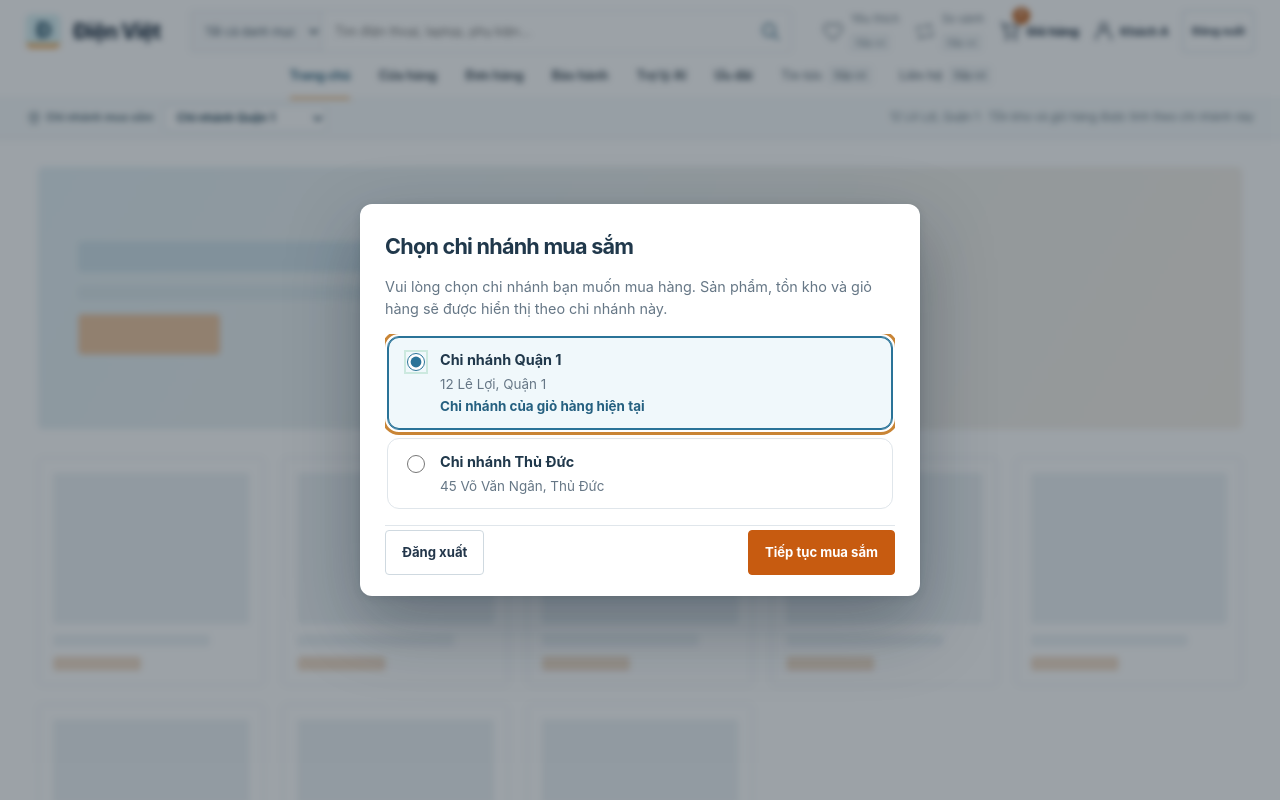
Test: C. Cart synchronization › switching away from a cart with items asks inside the dialog; keeping the cart changes nothing
Step 1. Click the radio button labelled "Chi nhánh Thủ Đức 45 Võ Văn Ngân, Thủ Đức" → (416, 464), box [407,455,425,473]
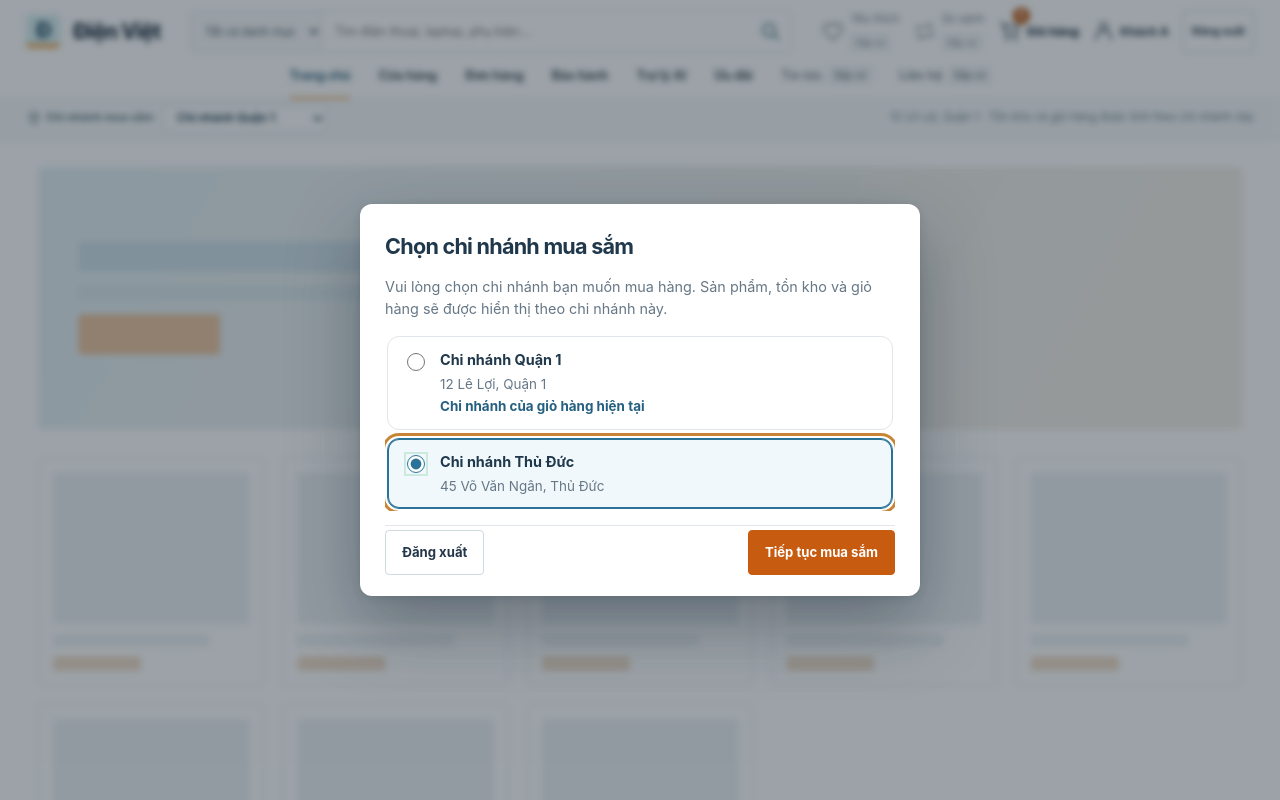
Step 2. Click the button "Tiếp tục mua sắm" → (822, 552), box [748,530,895,575]
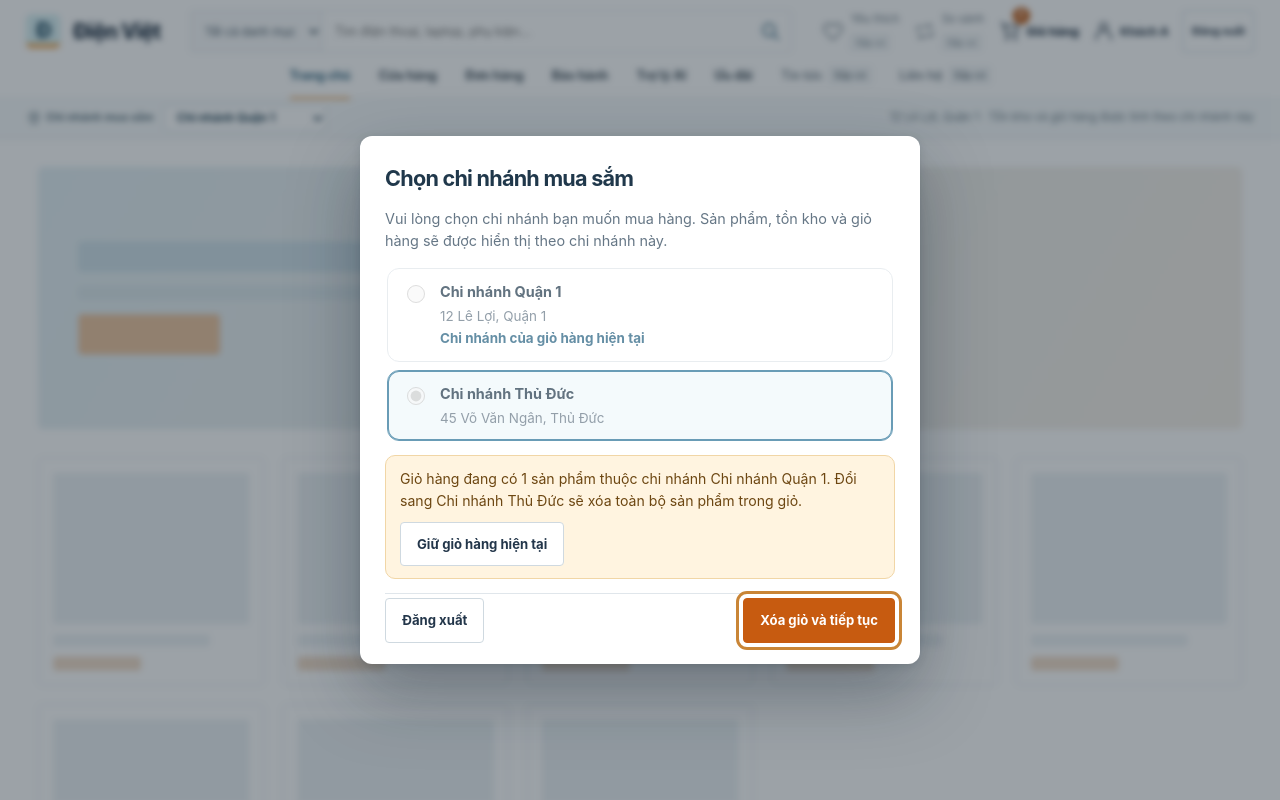
Expected: the message shows "Giỏ hàng đang có 1 sản phẩm thuộc chi nhánh Chi nhánh Quận 1", [385,455,895,579]
Step 3. Click the button "Giữ giỏ hàng hiện tại" → (482, 544), box [400,522,564,566]
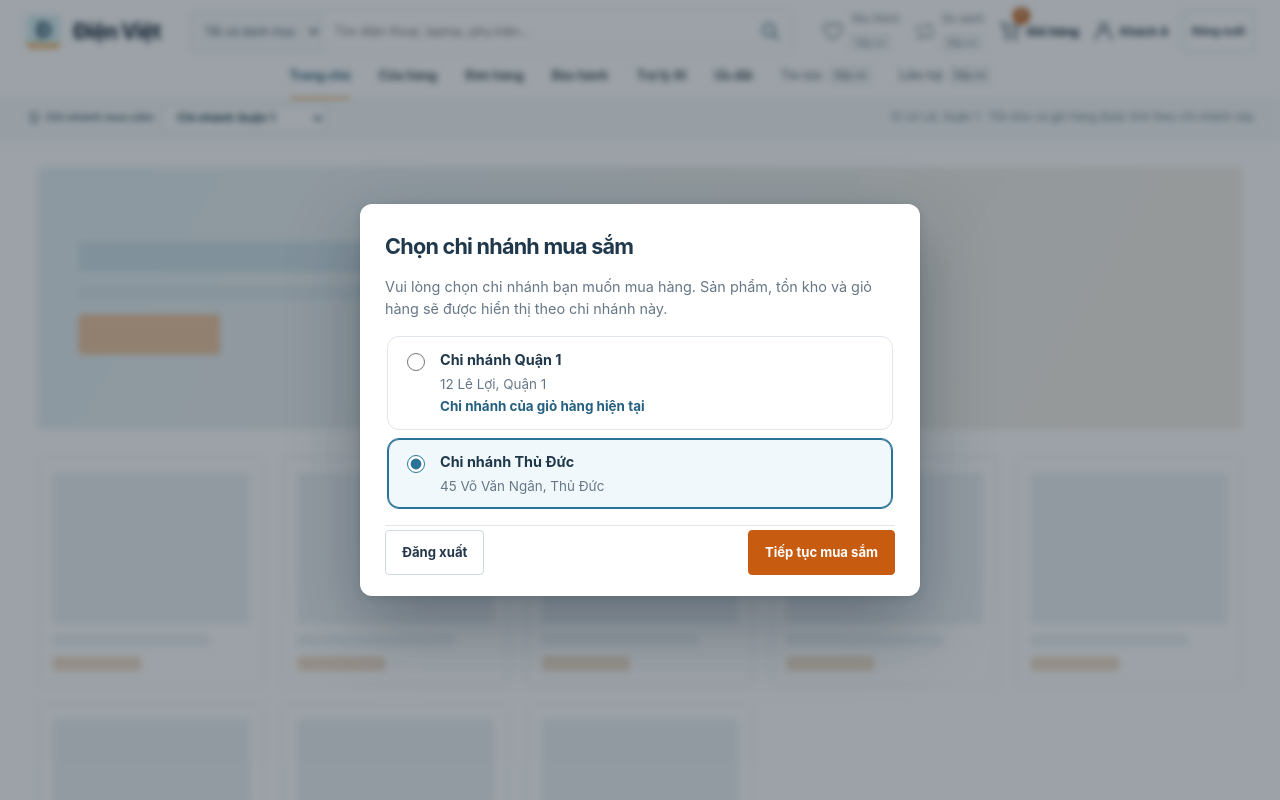
Expected: the dialog is shown, [360,204,920,596]
Step 4. Click the radio button labelled "Chi nhánh Thủ Đức 45 Võ Văn Ngân, Thủ Đức" → (416, 464), box [407,455,425,473]
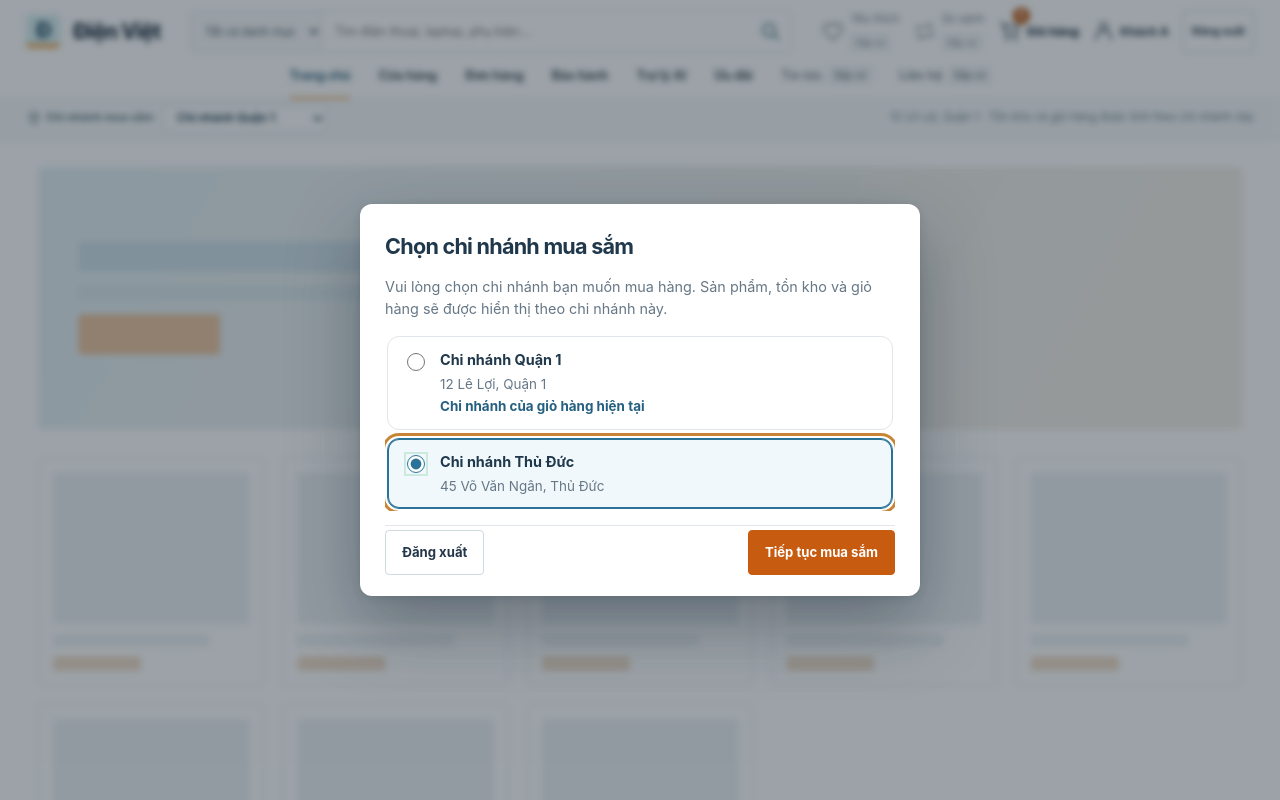
Step 5. Click the button "Tiếp tục mua sắm" → (822, 552), box [748,530,895,575]
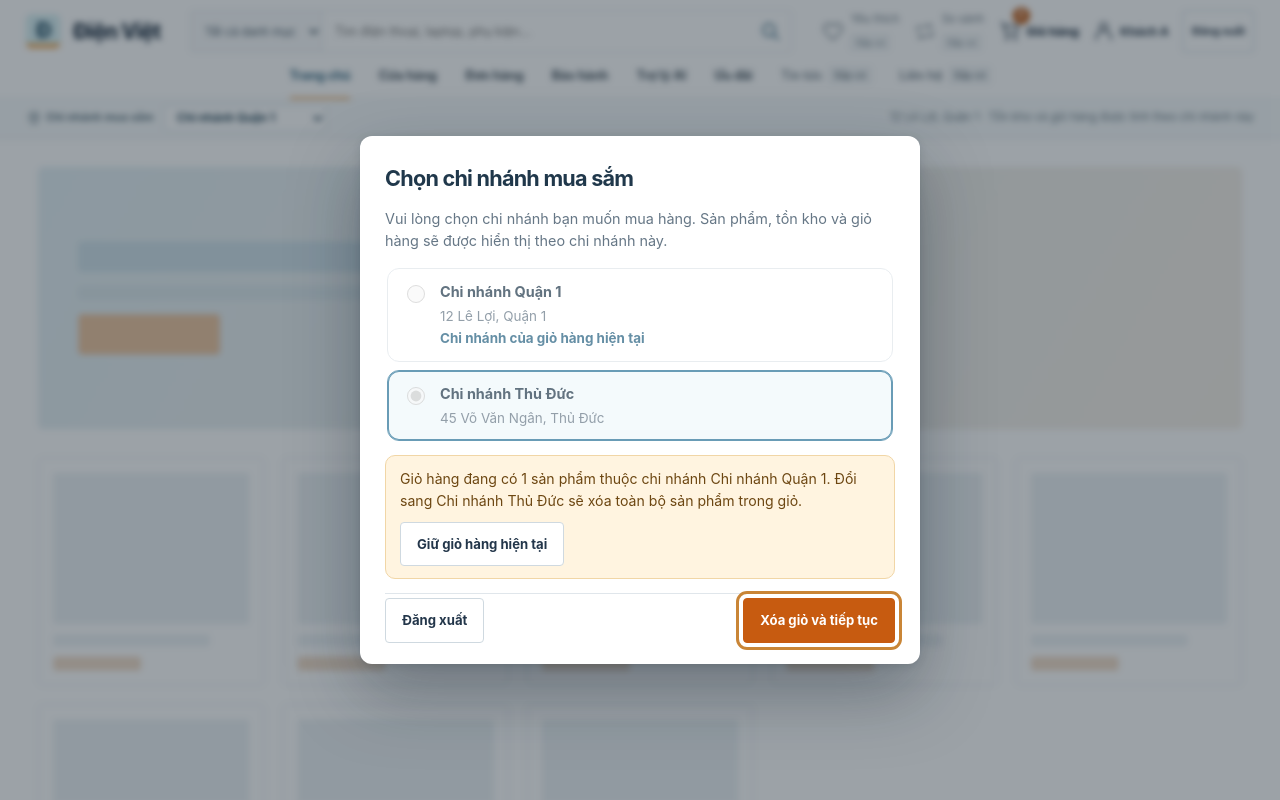
Step 6. Click the button "Xóa giỏ và tiếp tục" → (819, 620), box [743,598,895,643]
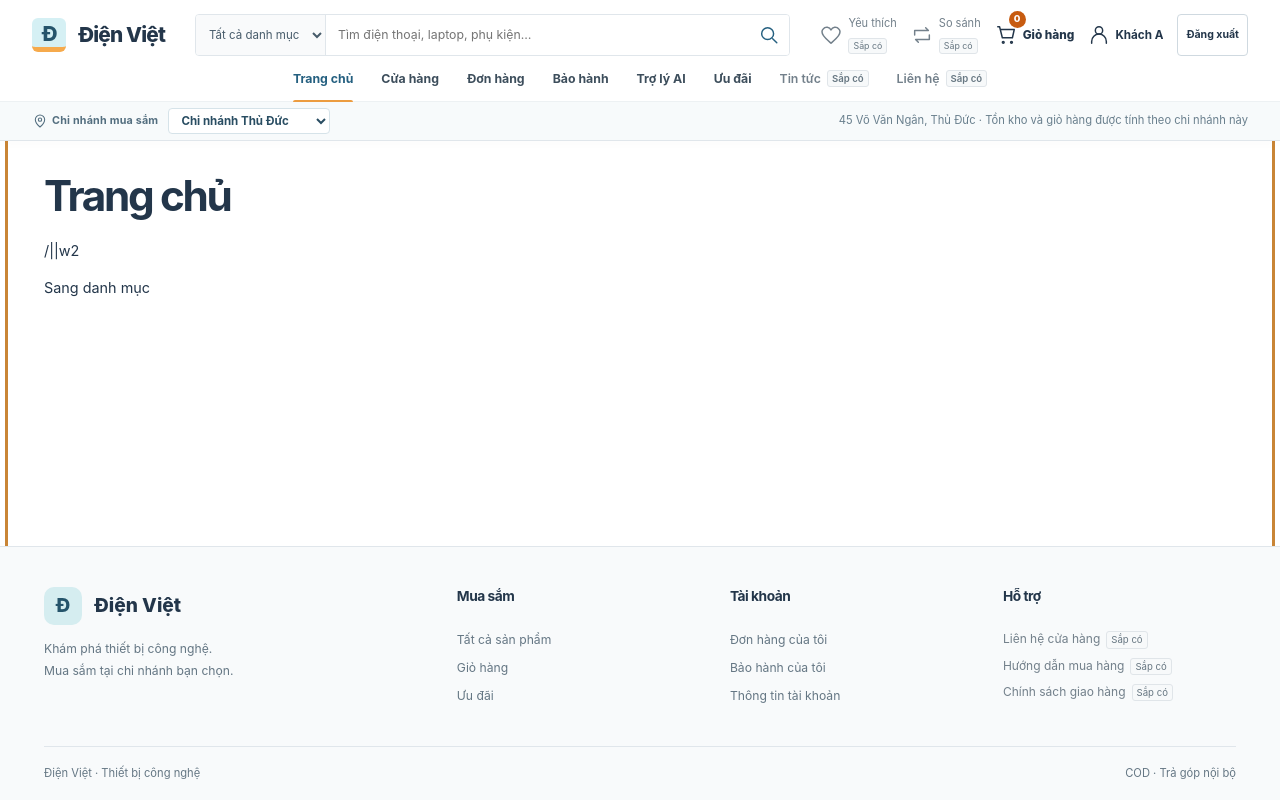
Expected: the heading "Trang chủ" is shown, [44,170,230,221]
